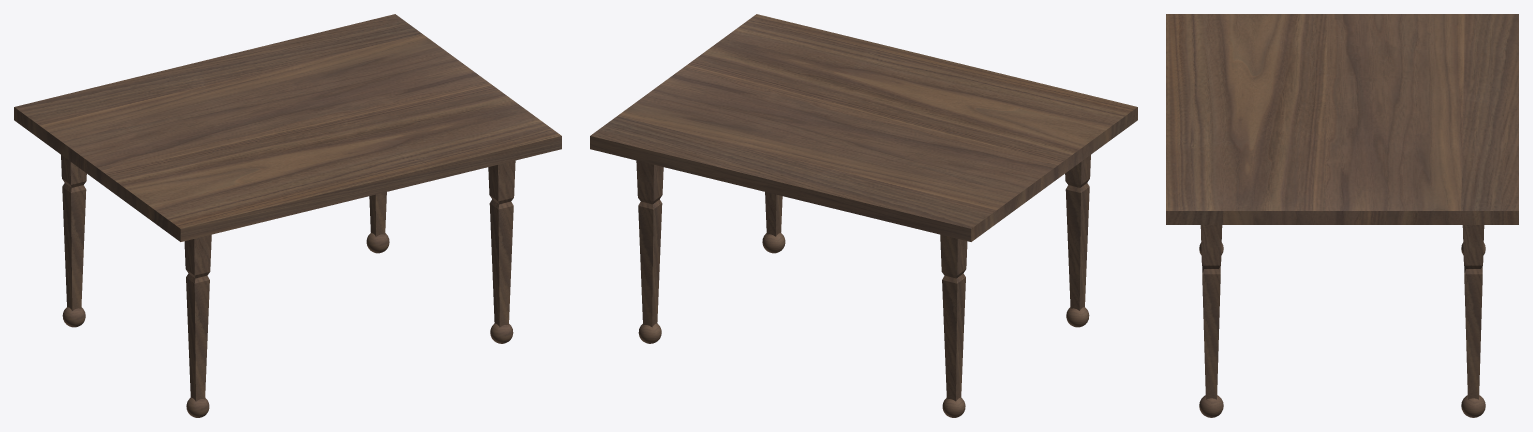
Rendered from Table.fbx.
The picture shows the model from 3 angles, left to right: view 1: azimuth 30°, elevation 25°; view 2: azimuth 150°, elevation 25°; view 3: azimuth 270°, elevation 25°; orthographic projection. The views are drawn at different scales.
Parts seen in each view (by area): view 1: Cube; view 2: Cube; view 3: Cube.
Boxes of the visible parts, <box> form: Cube: <box>14,14,561,417</box>; Cube: <box>590,14,1137,417</box>; Cube: <box>1166,14,1518,417</box>.
Size of the model in its own units: 561 by 300 by 424.
